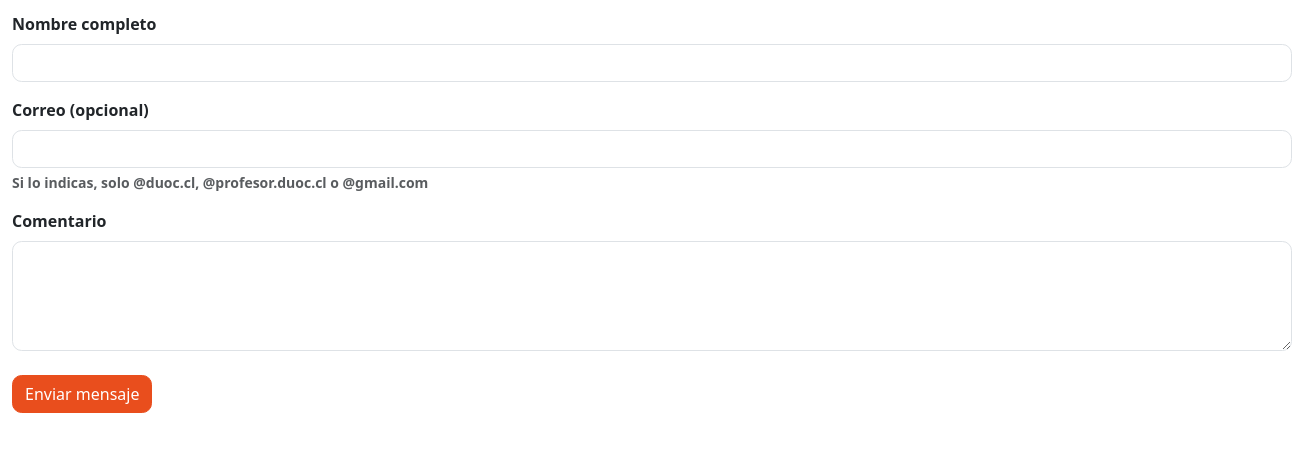
<ContactoForm /> › muestra el error del correo mientras se escribe, sin enviar
Type "ana@hotmail.com" into the field labelled "Correo (opcional)".
click(652, 149); type("ana@hotmail.com")  # box left=12, top=130, right=1292, bottom=168
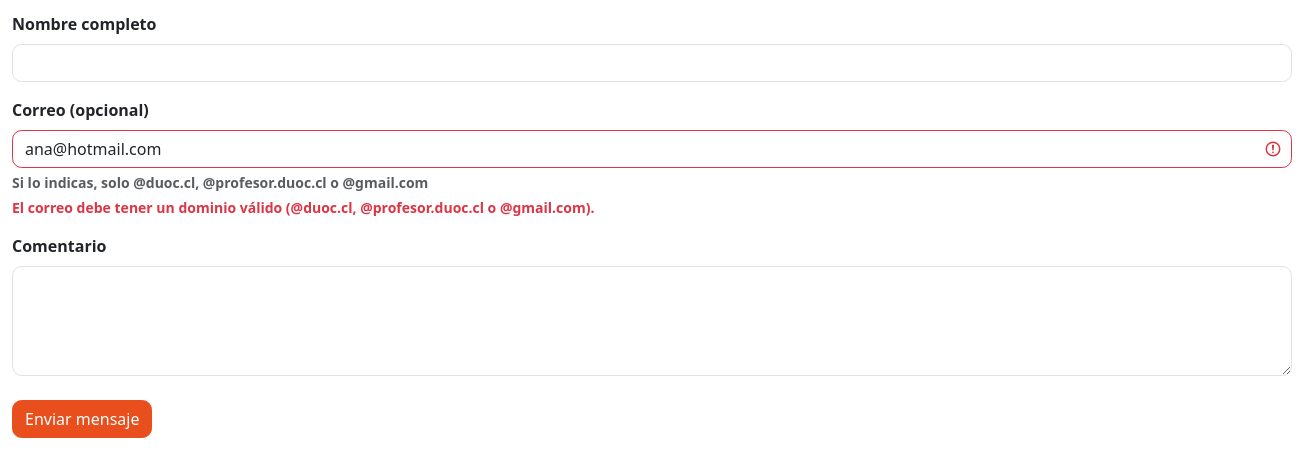
Check: the text "dominio válido" is shown, box left=12, top=198, right=594, bottom=217
